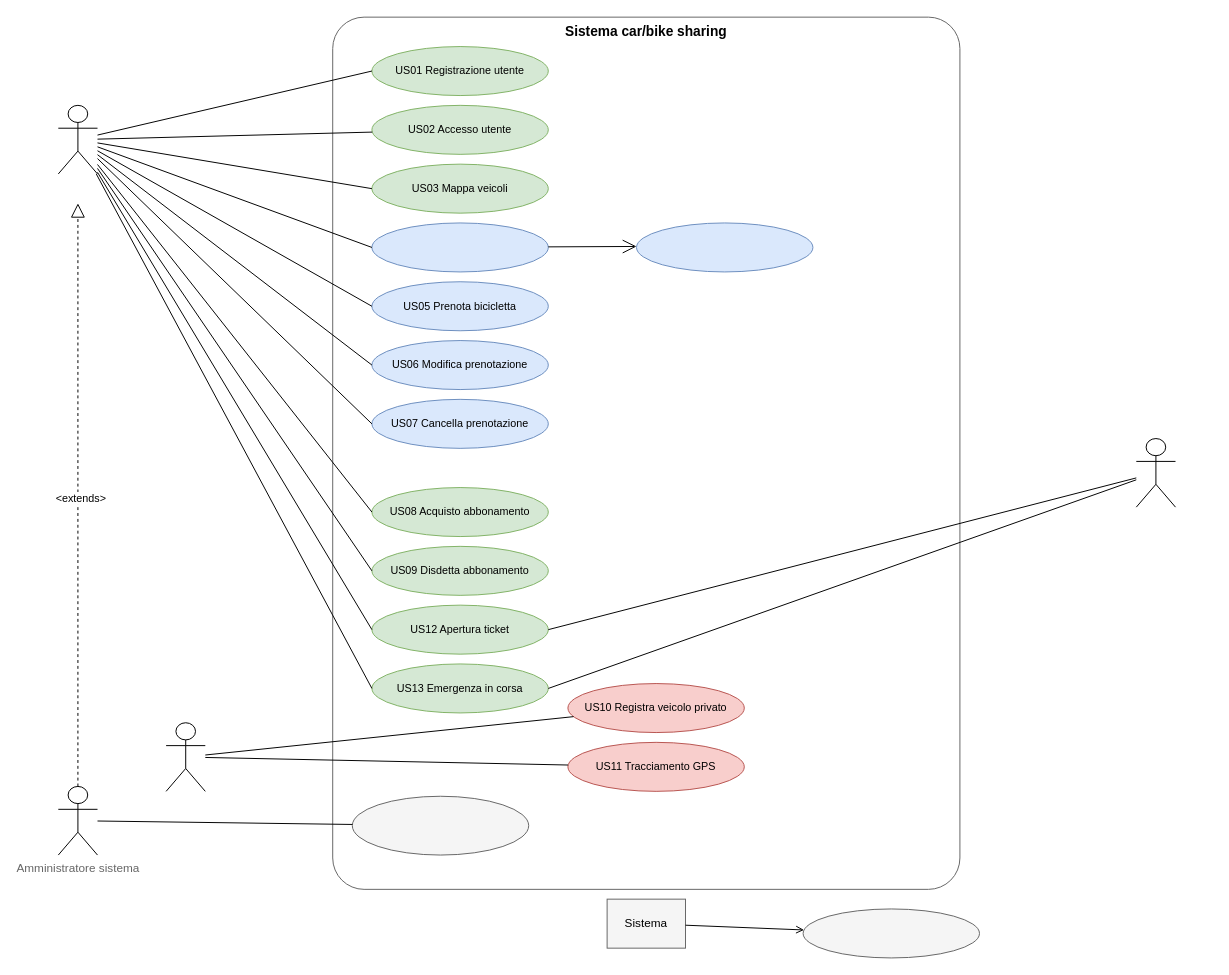
This 1229x975 diagram has some shape labels left out. Here are the shapes that lost their labels. From the top down, the centre of each, then its label:
[77,139]: Utente
[459,247]: US04 Prenota auto
[724,247]: Seleziona veicolo
[1155,472]: Operatore assistenza
[185,756]: Privato
[440,825]: Manutenzione e monitoraggio
[891,933]: Generazione ID veicolo
